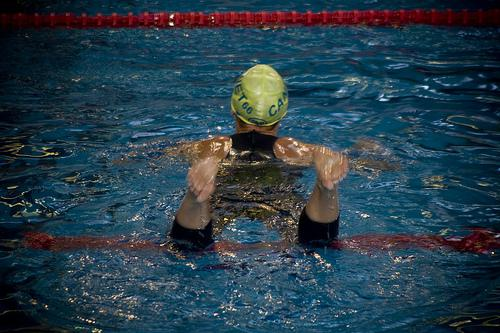human: (166, 63, 351, 254)
